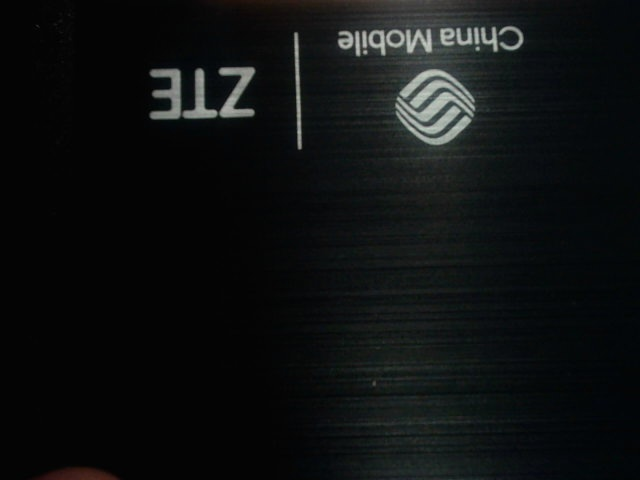AL_ZTEChinaMobile: (121, 18, 531, 158)
